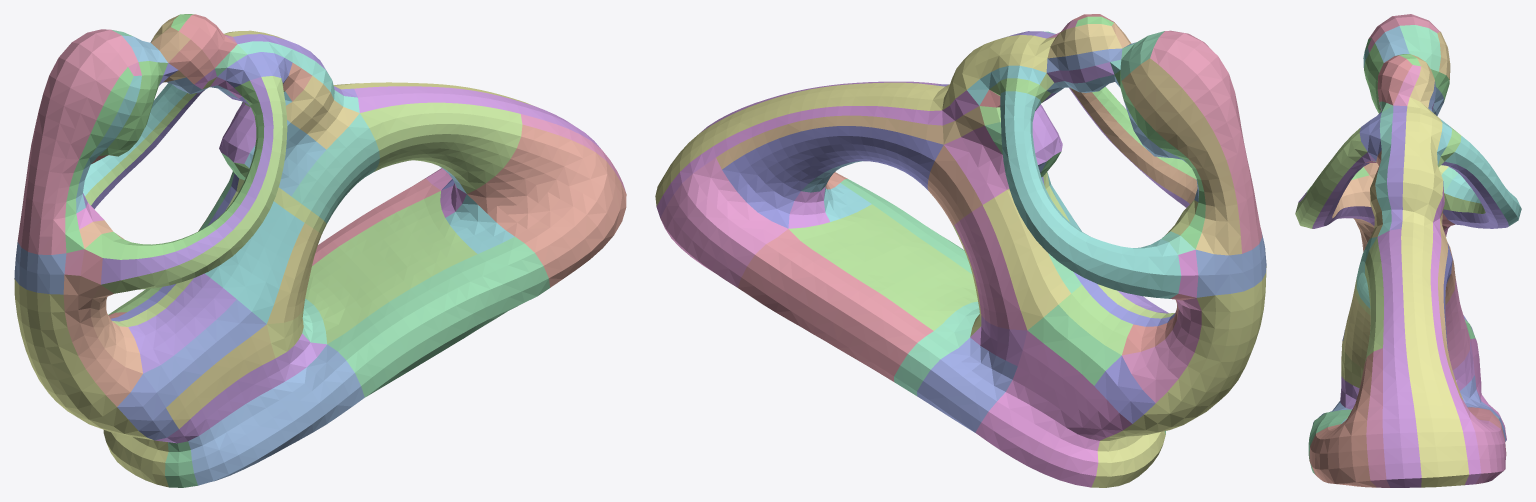
Rendered from fertility_patch_color.obj.
3 renders of one model, left to right at view 1: azimuth 30°, elevation 25°; view 2: azimuth 150°, elevation 25°; view 3: azimuth 270°, elevation 25°, orthographic. The views are drawn at different scales.
Bounding box in the file's own units: 198 × 143 × 72.72.
